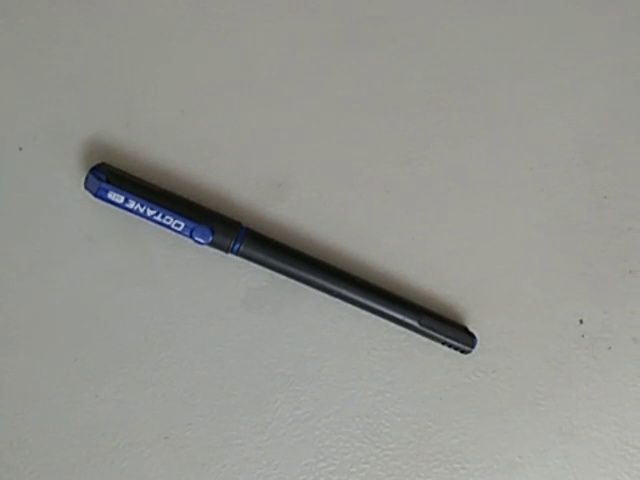Pen: (61, 141, 510, 365)
